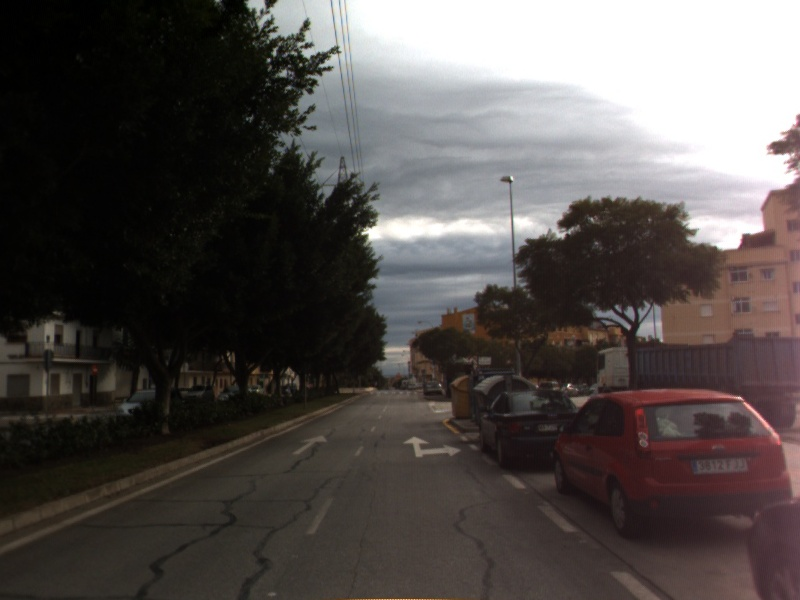STRAIGHT: (290, 433, 330, 457)
STRAIGHT_RIGHT: (401, 434, 464, 459)
